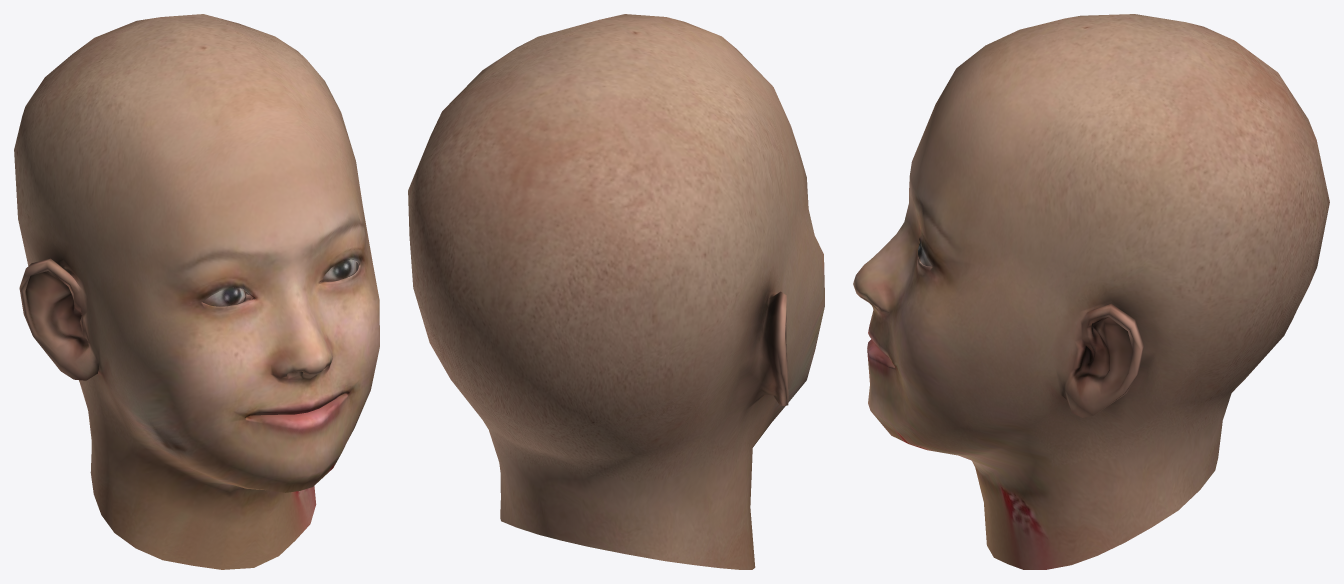
3 views of the same model, side by side, from view 1: azimuth 30°, elevation 25°; view 2: azimuth 150°, elevation 25°; view 3: azimuth 270°, elevation 25° (orthographic). The views are drawn at different scales.
Parts seen in each view (by area): view 1: Head; view 2: Head; view 3: Head.
Boxes of the visible parts, left/top/right/bottom form: Head: left=14, top=14, right=379, bottom=569; Head: left=408, top=14, right=824, bottom=569; Head: left=853, top=14, right=1329, bottom=569.
Bounding box in the file's own units: 0.187 × 0.2688 × 0.2235.
